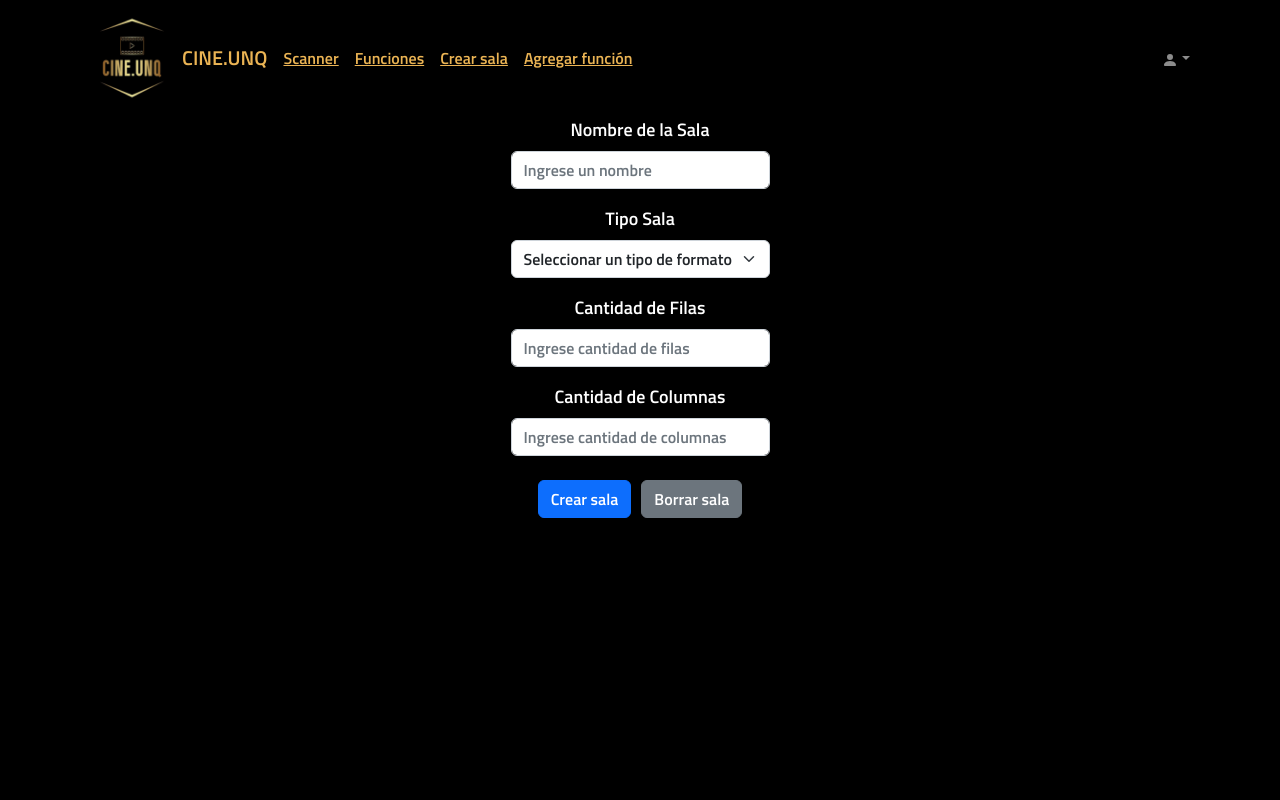
Test: create one sala and save
Type "Sala1" into the field with test id "input-nombre-sala".
click(640, 170); type("Sala1")  # box [510,151,770,189]
Type "6" into the number field with test id "input-cantidad-columnas".
click(640, 437); type("6")  # box [510,418,770,456]
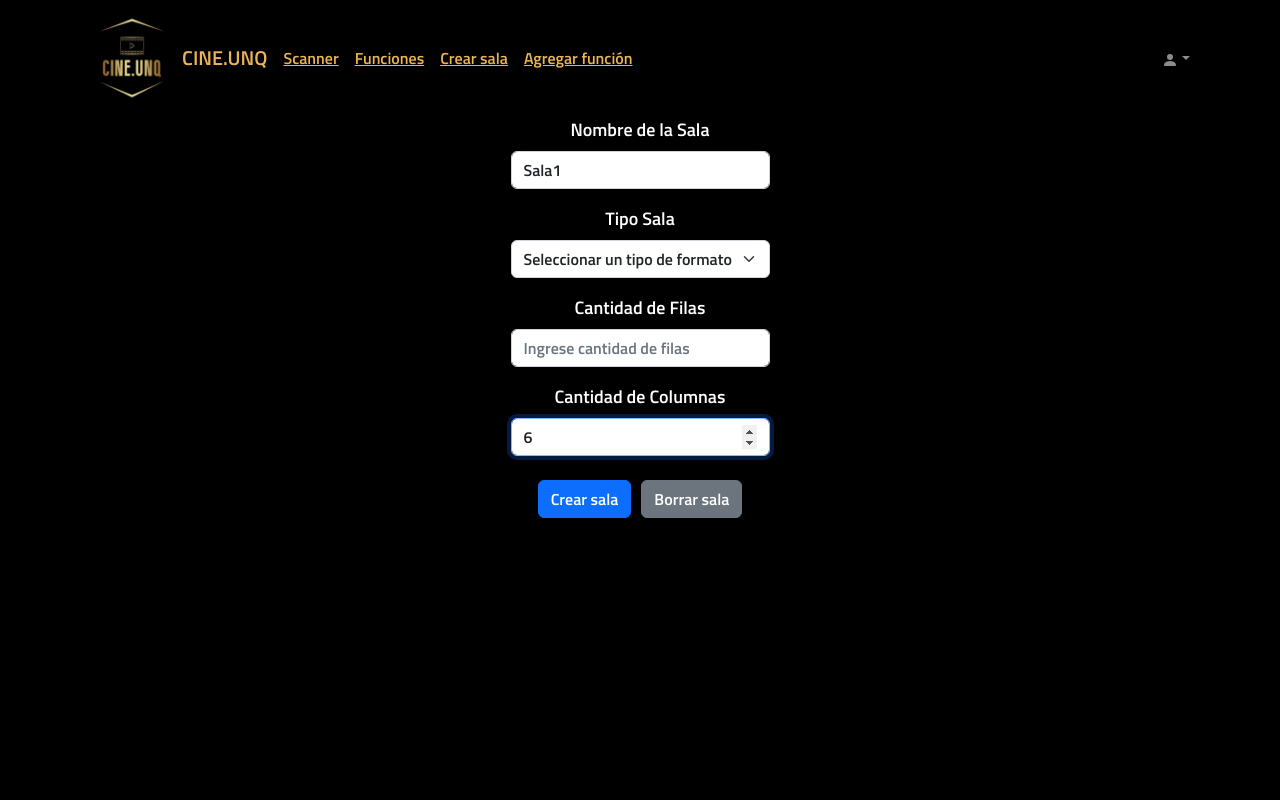
Type "6" into the number field with test id "input-cantidad-filas".
click(640, 348); type("6")  # box [510,329,770,367]
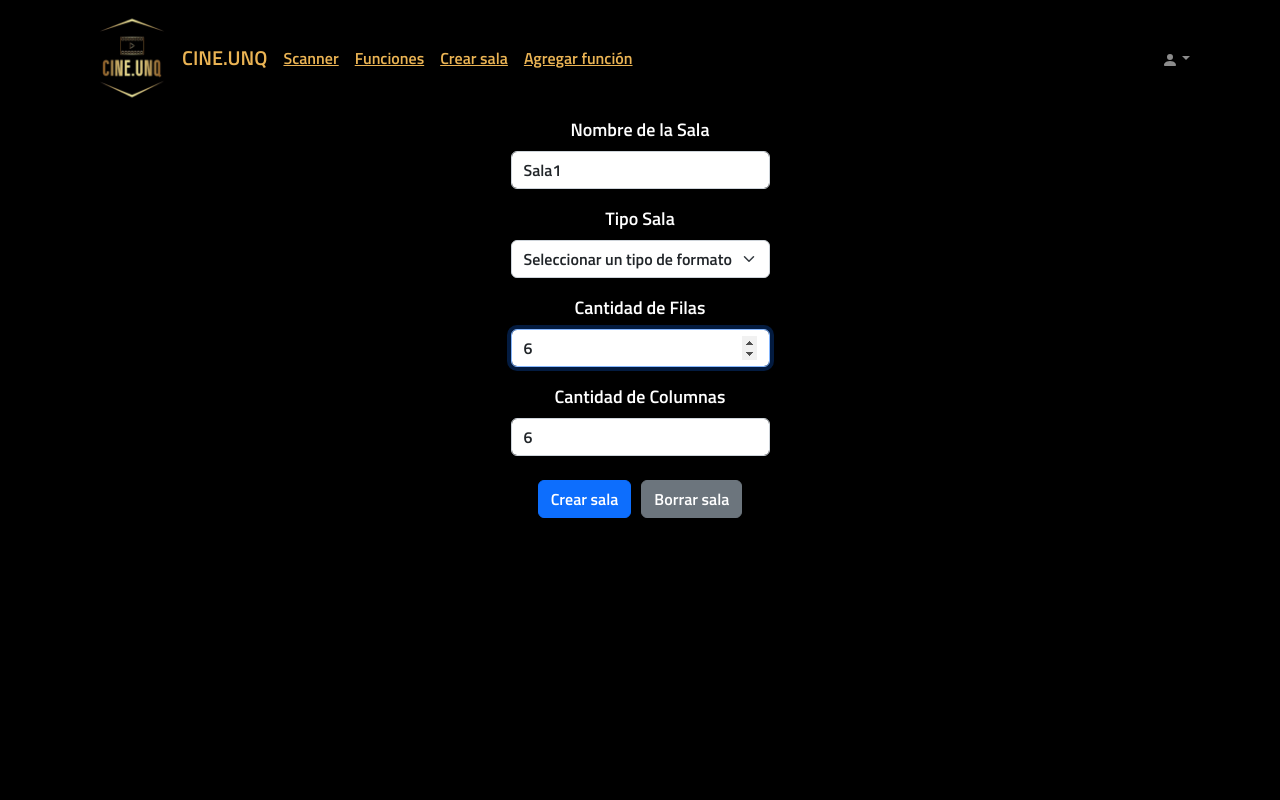
Select "2D" in the dropdown with test id "input-formato-sala" at [640, 259], box [510,240,770,278]
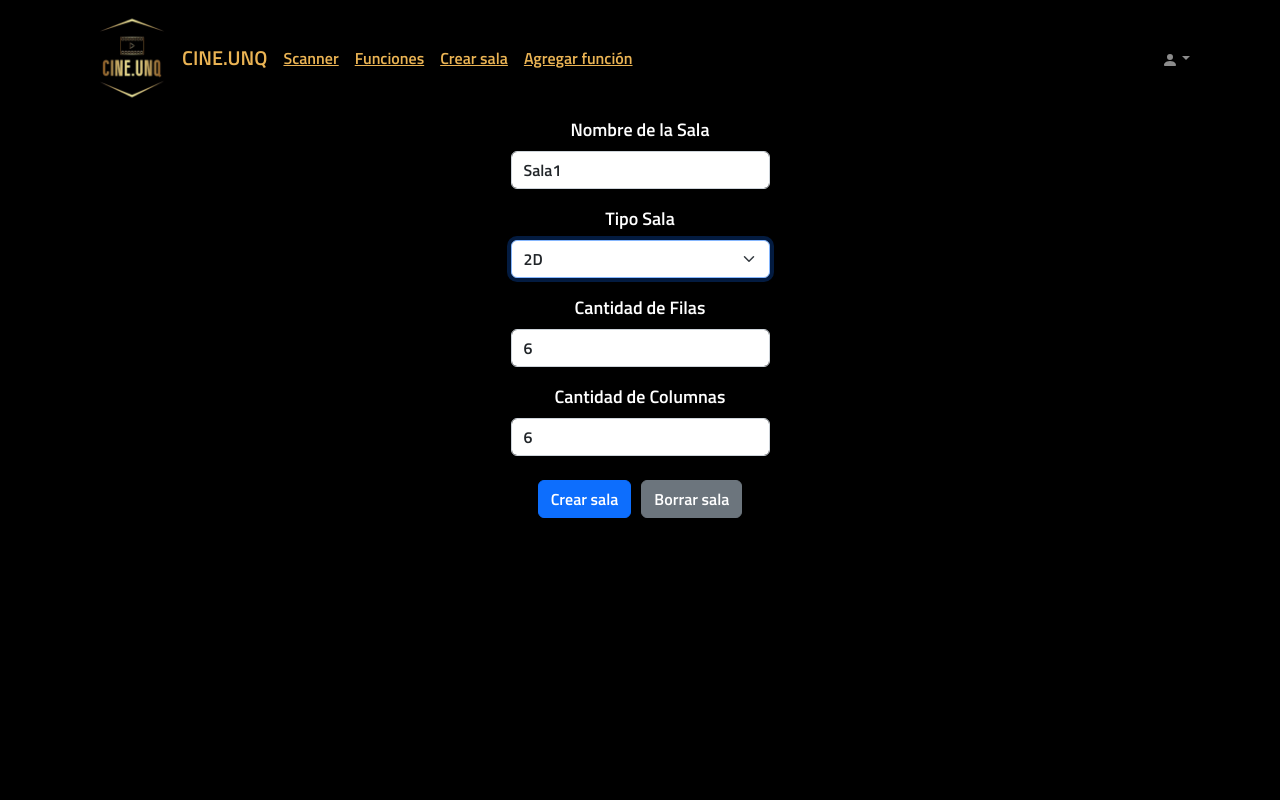
Click the button with test id "boton-crear-sala".
click(584, 499)  # box [538,480,631,518]
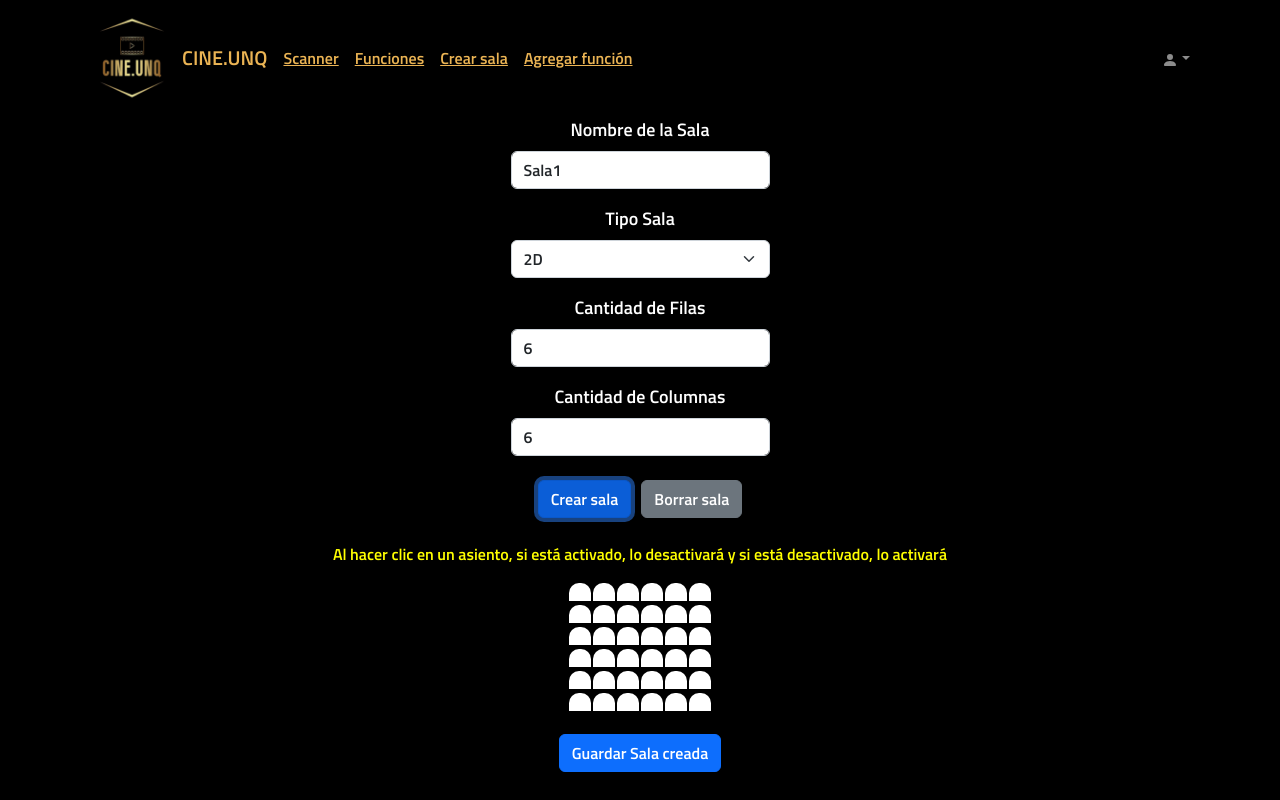
Click the button with test id "boton-guardar-sala".
click(640, 753)  # box [559,734,721,772]
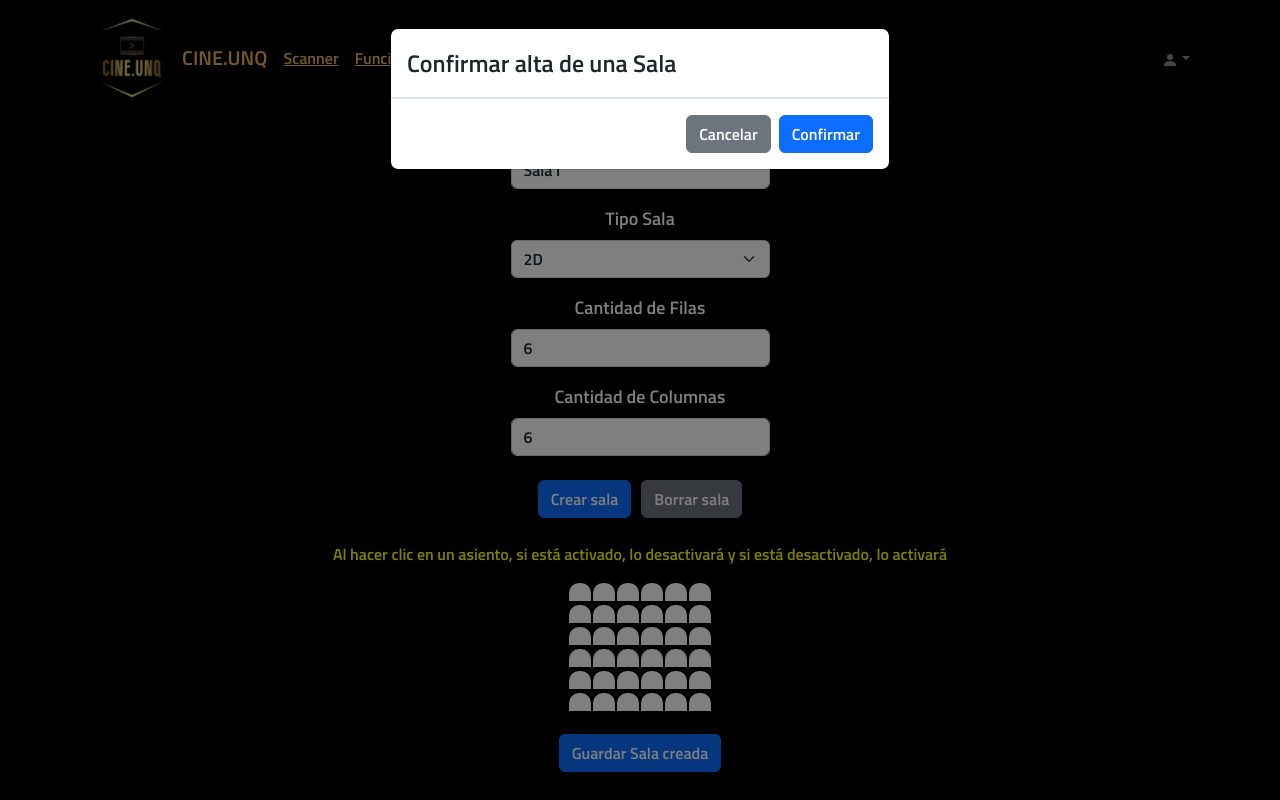
Click the button with test id "confirmar-creacion-sala".
click(826, 134)  # box [779,115,873,153]
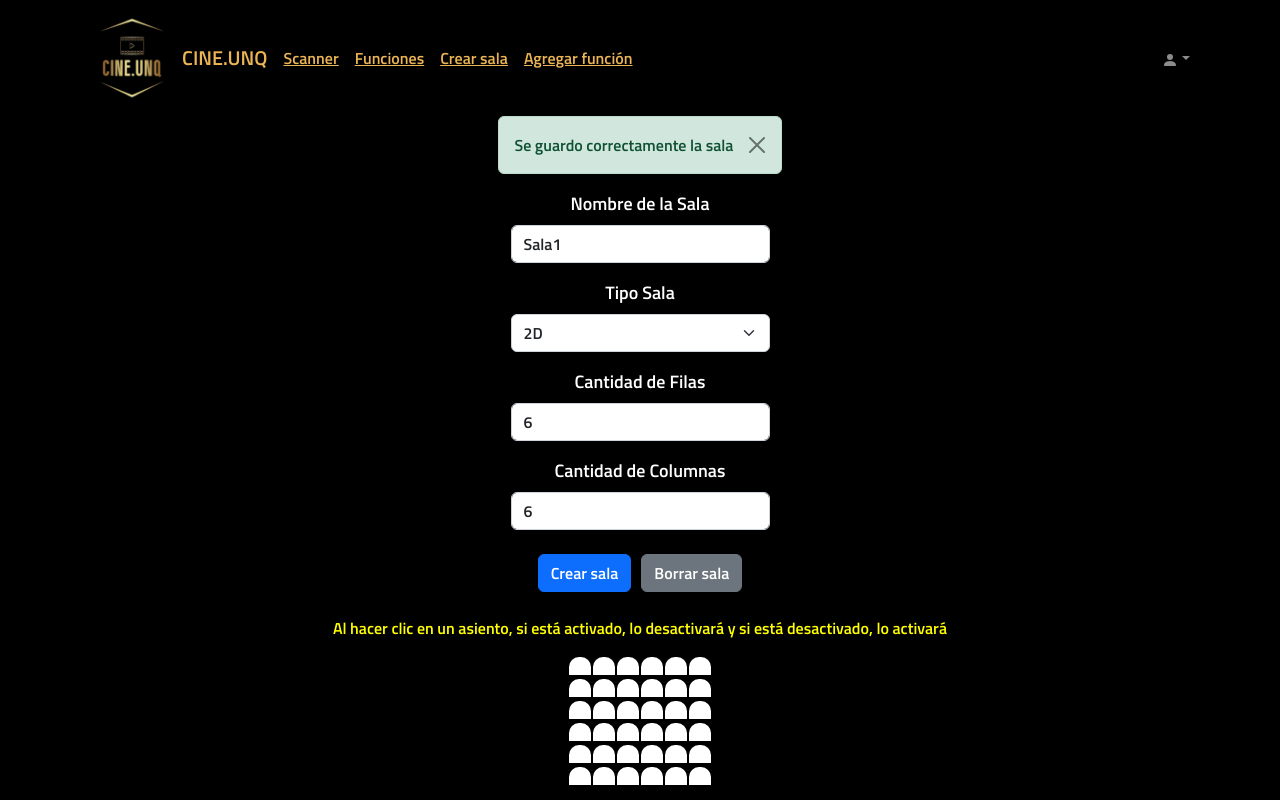
Now the message with test id "msg-sala-creada" reads "Se guardo correctamente la sala", box [514,133,734,157]
